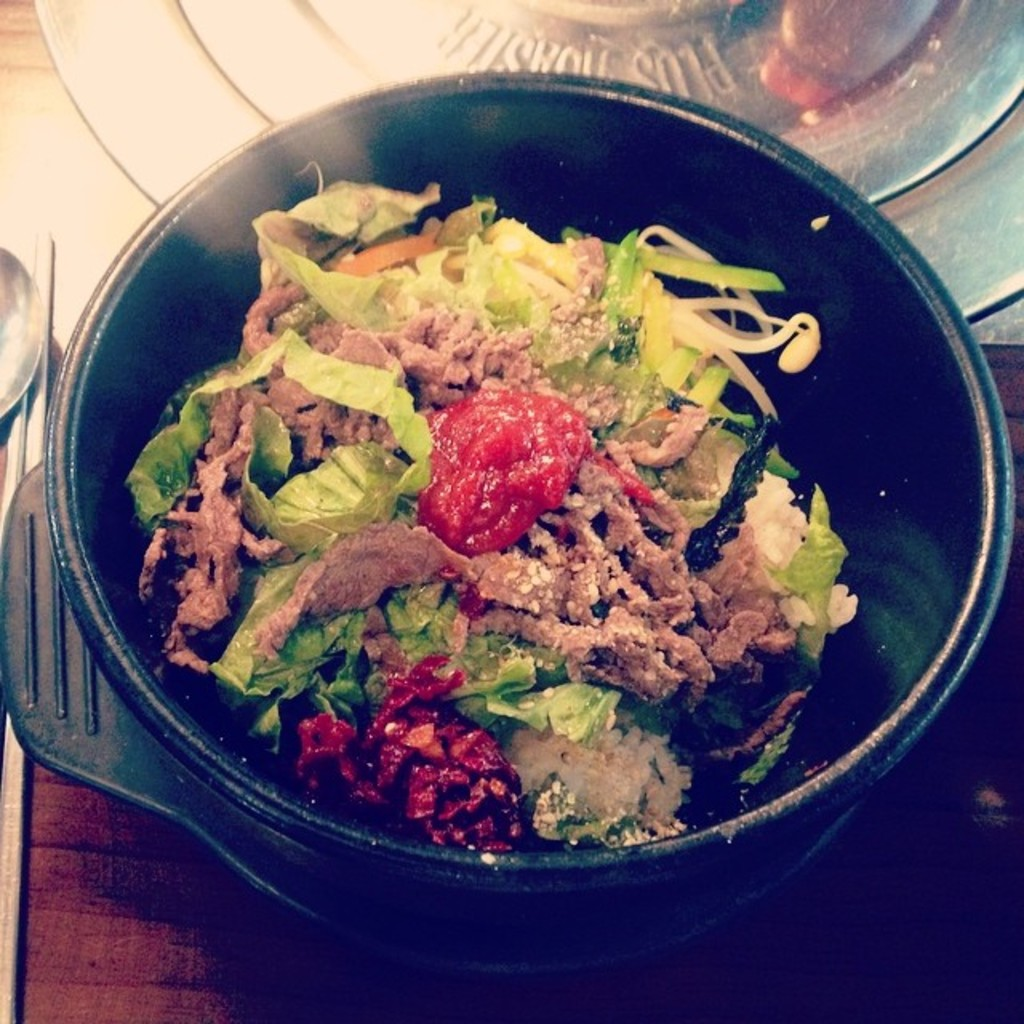salad: (142, 146, 867, 866)
